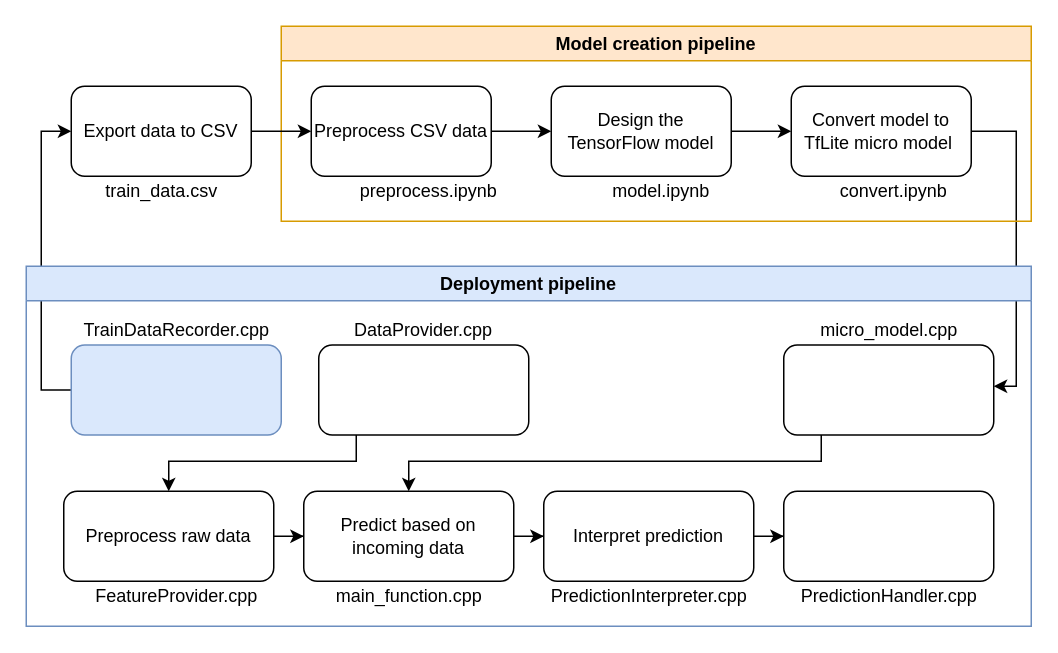
Image size: 1058x653. Some labels were removed from this diagram. The centre of each missing label's shape, as x and y in pixels:
C array containing the model: the point at 888,389
Handle interpreted prediction: the point at 888,535
Provide raw data: the point at 423,389
Record training data: the point at 175,389
